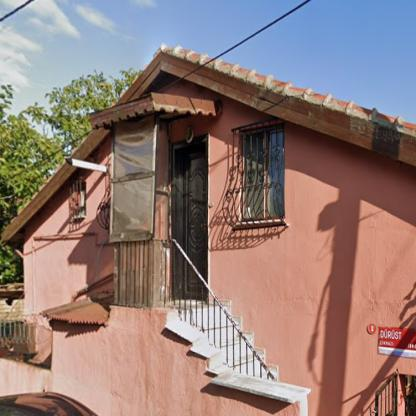door: (172, 144, 206, 297)
window: (243, 126, 283, 221)
